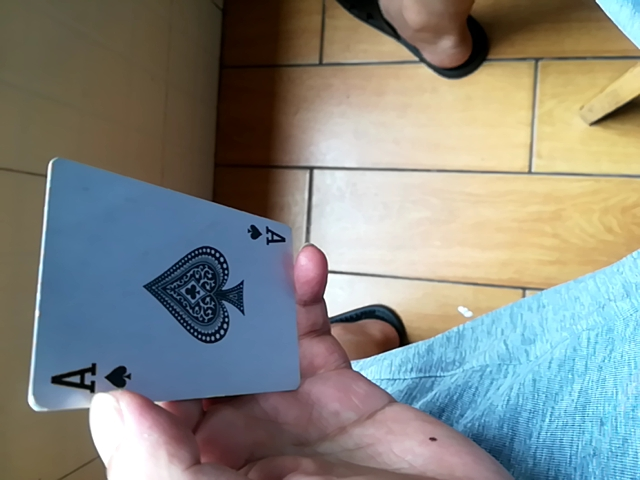ht a: (27, 150, 299, 415)
